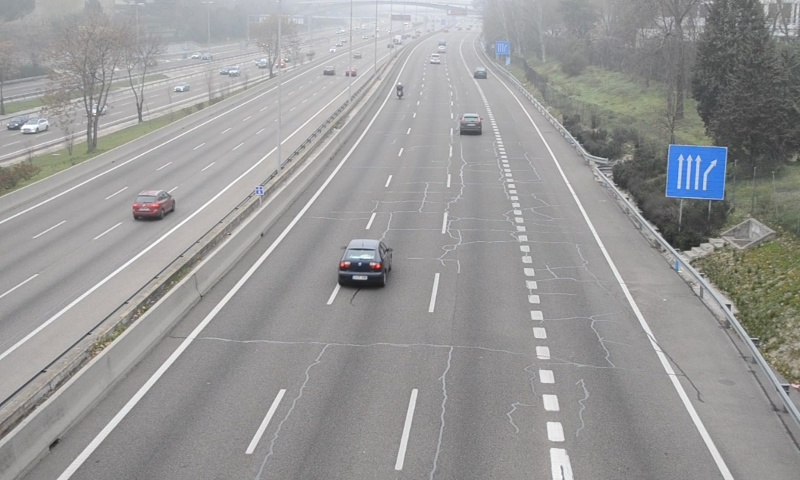car: (337, 237, 392, 287), (458, 112, 482, 136), (473, 67, 486, 79)
motorcycle: (394, 82, 403, 102)
